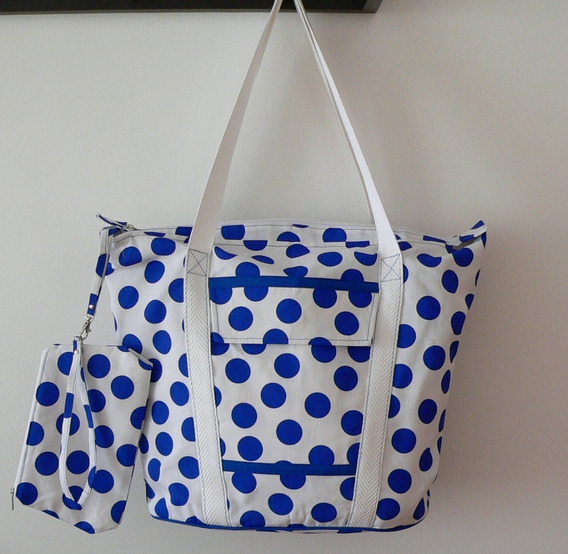cartera: (100, 1, 491, 537)
